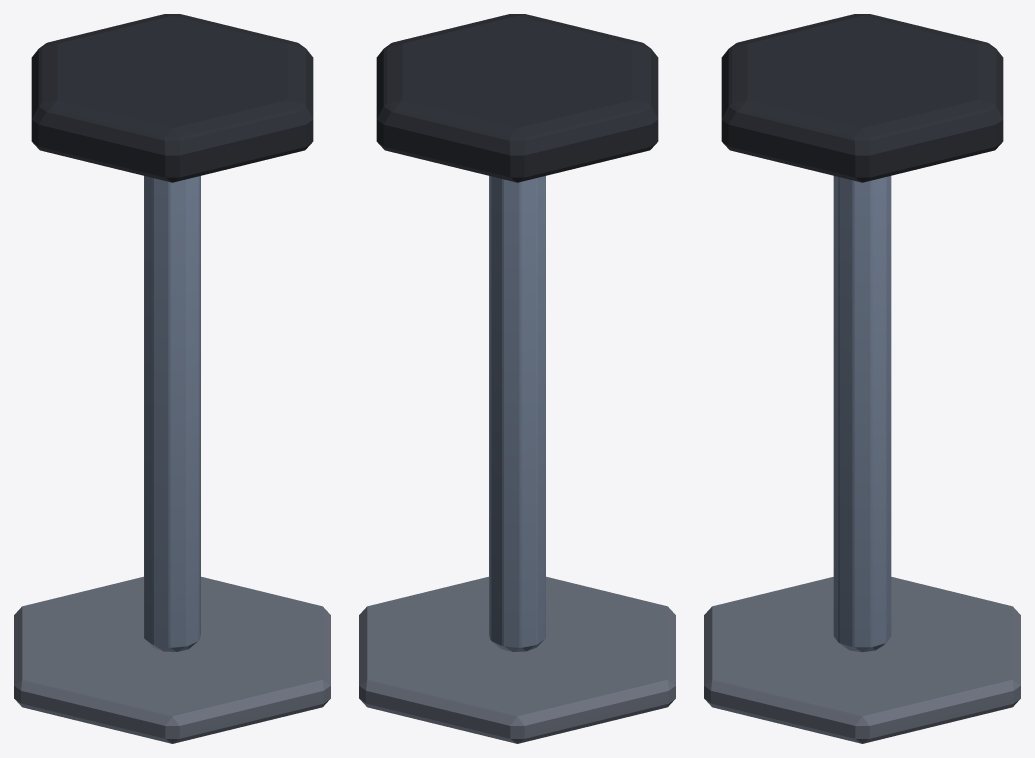
Rendered from lab_stool.glb.
The picture shows the model from 3 angles, left to right: view 1: azimuth 30°, elevation 25°; view 2: azimuth 150°, elevation 25°; view 3: azimuth 270°, elevation 25°; orthographic projection.
Parts seen in each view (by area): view 1: lab_stool-col; view 2: lab_stool-col; view 3: lab_stool-col.
Boxes of the visible parts, x1,y1,x2,y2 form: lab_stool-col: (14,14,330,743); lab_stool-col: (359,14,675,743); lab_stool-col: (704,14,1020,743).
Size of the model in its own units: 0.352 by 0.65 by 0.3118.
1 material, 1 textured.
